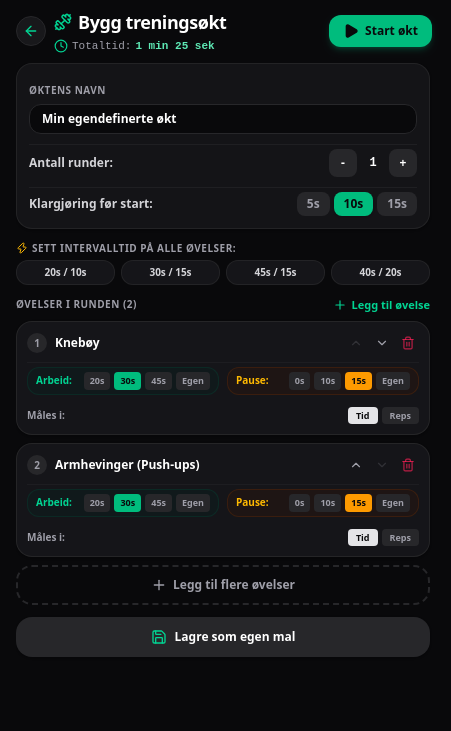
Programbyggeren — fri varighet per øvelse › gjelder pausetiden på samme måte
Step 1. Click the 2nd button "Egen" → (393, 381), box [376, 372, 410, 390]
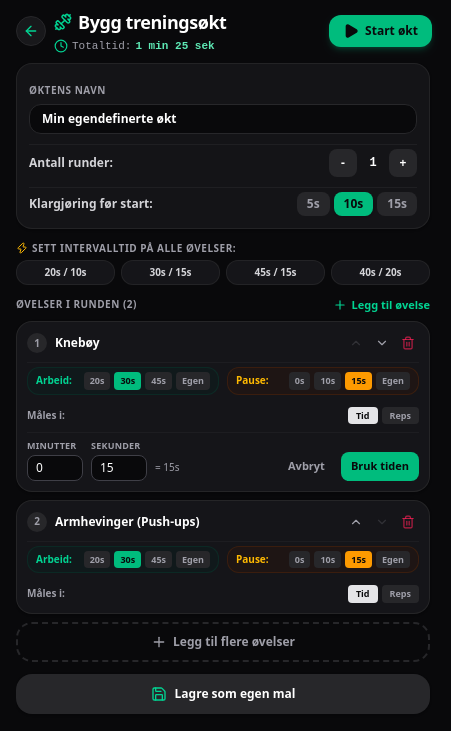
Step 2. Replace the text in the number field labelled "Minutter" with "1" → (55, 468), box [27, 454, 83, 480]
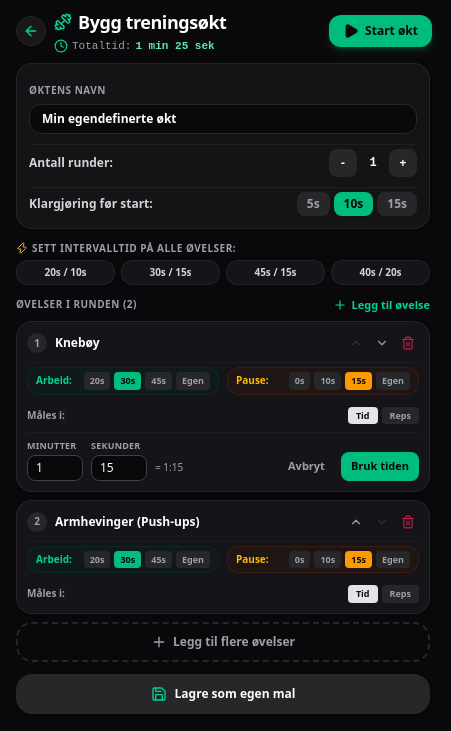
Step 3. Replace the text in the number field labelled "Sekunder" with "30" → (119, 468), box [91, 454, 147, 480]
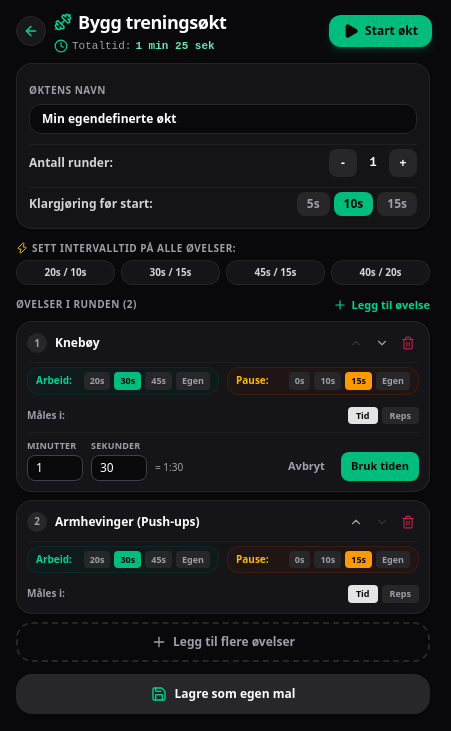
Step 4. Click the button "Bruk tiden" → (380, 466), box [341, 452, 419, 480]
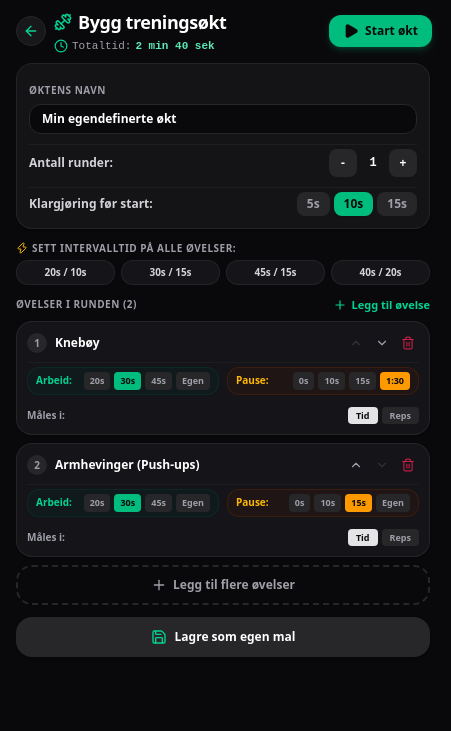
Expected: the text "2 min 40 sek" is shown, [135, 38, 215, 54]
